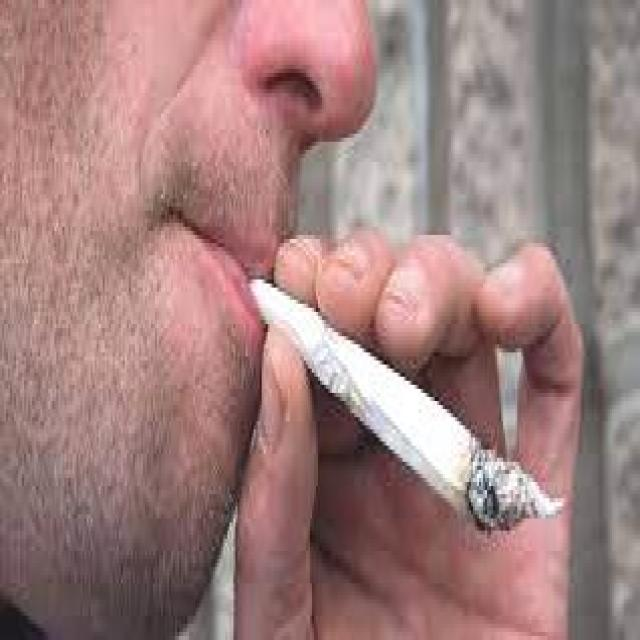smoke: (246, 267, 552, 551)
